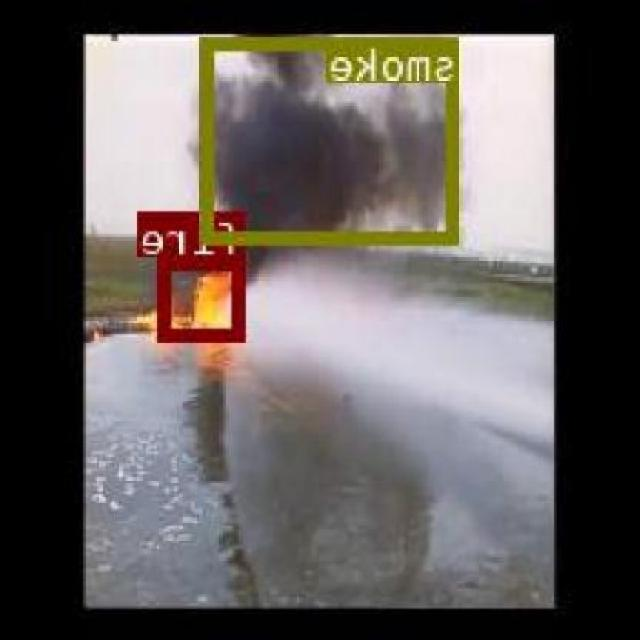Fire: (160, 256, 248, 339)
Smoke: (204, 36, 462, 242)
